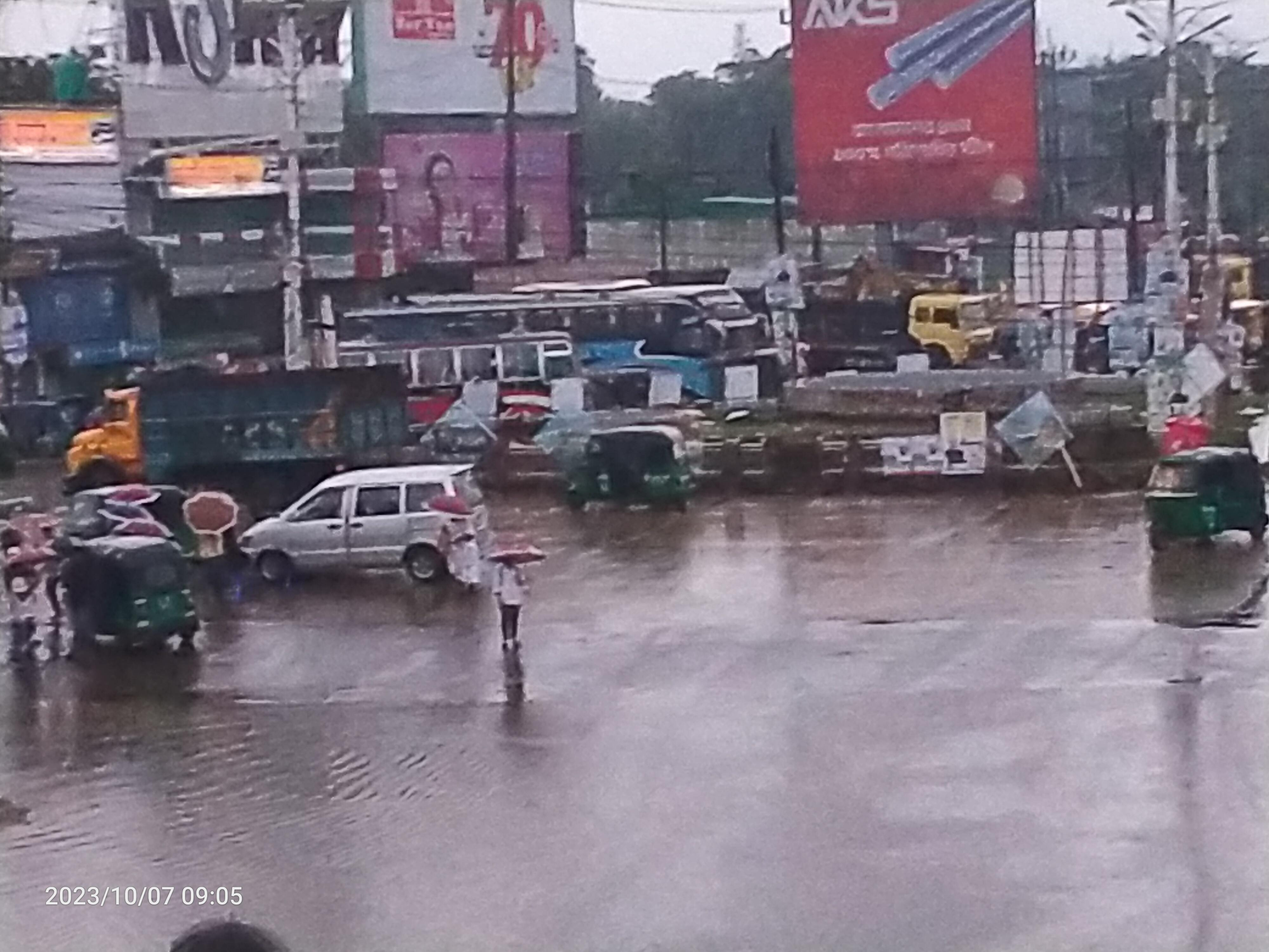Bus: (498, 258, 779, 426), (237, 299, 594, 430)
Car: (222, 456, 523, 619)
Truck: (23, 346, 435, 482), (784, 254, 1015, 388)
